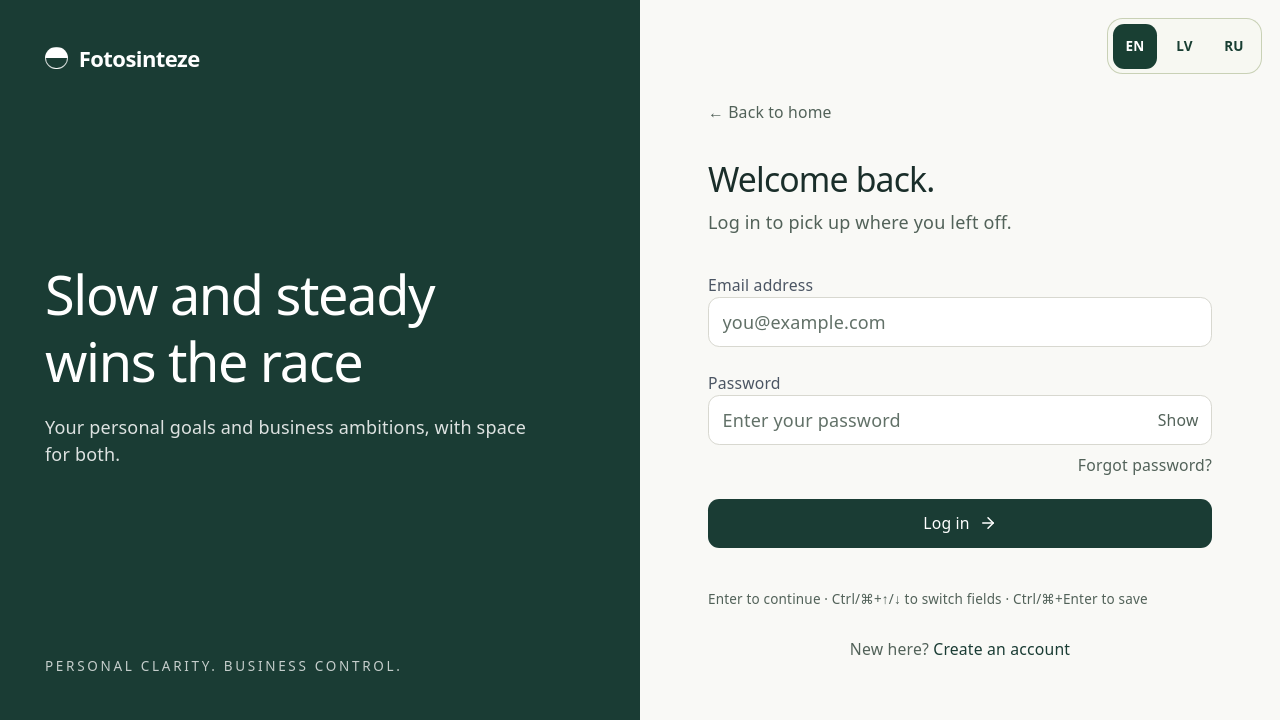
Test case: localized pages › switches visible validation and password controls without losing draft values or input identity
Type "draft@example.com" into the field labelled "Email address".
click(960, 322); type("draft@example.com")  # box [708, 297, 1212, 347]
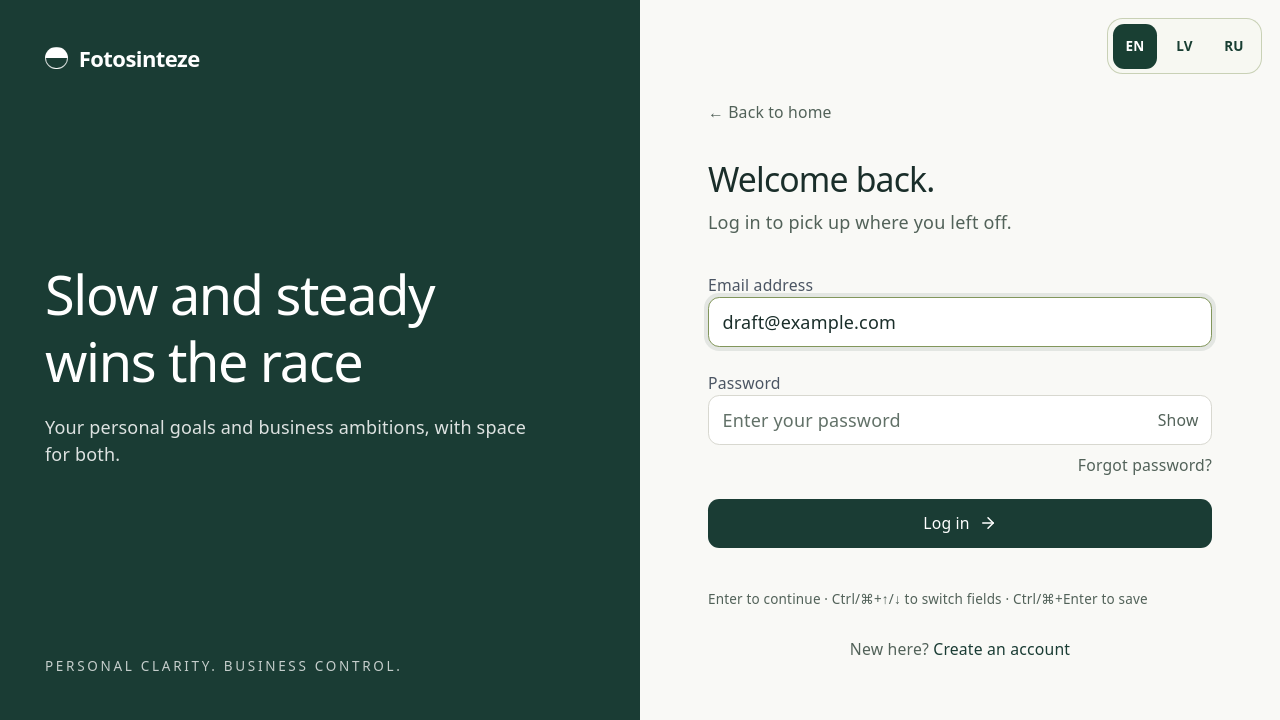
Click the button "Log in".
click(960, 523)  # box [708, 499, 1212, 548]
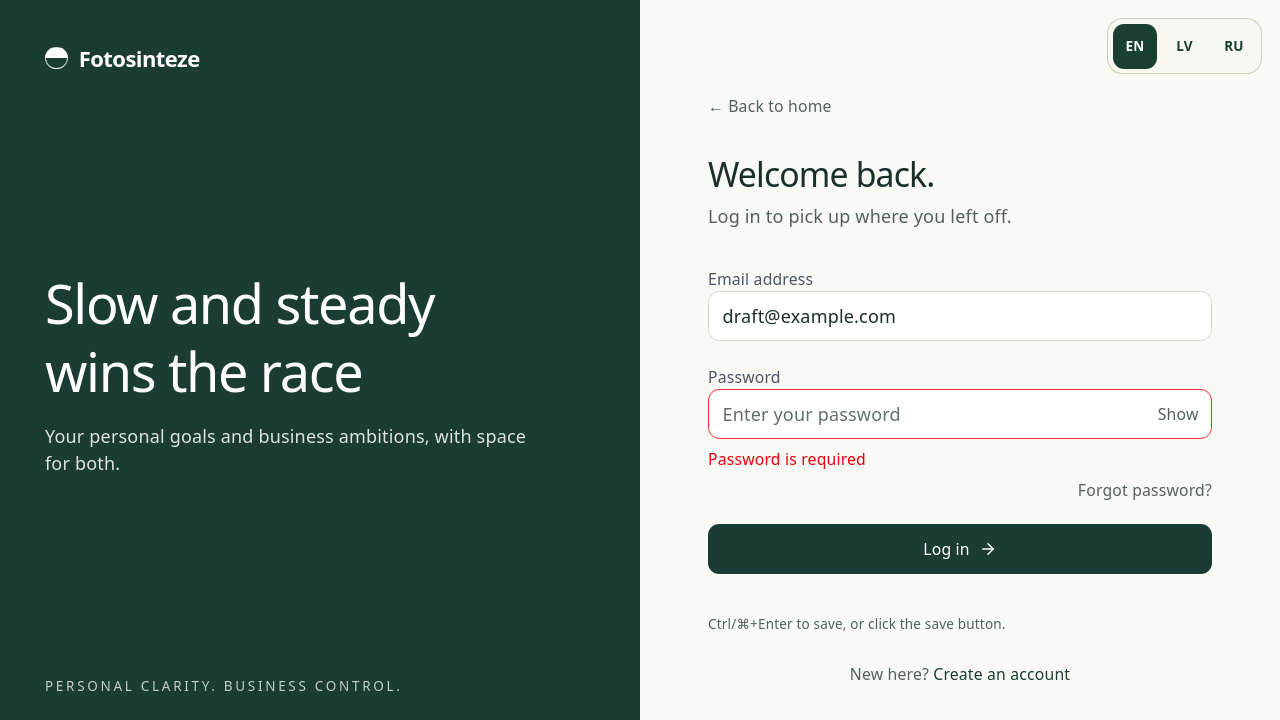
Expected: the text "Password is required" is shown, [708, 448, 866, 470]
Click the button with aria-label "Latviešu".
click(1184, 46)  # box [1162, 24, 1207, 68]
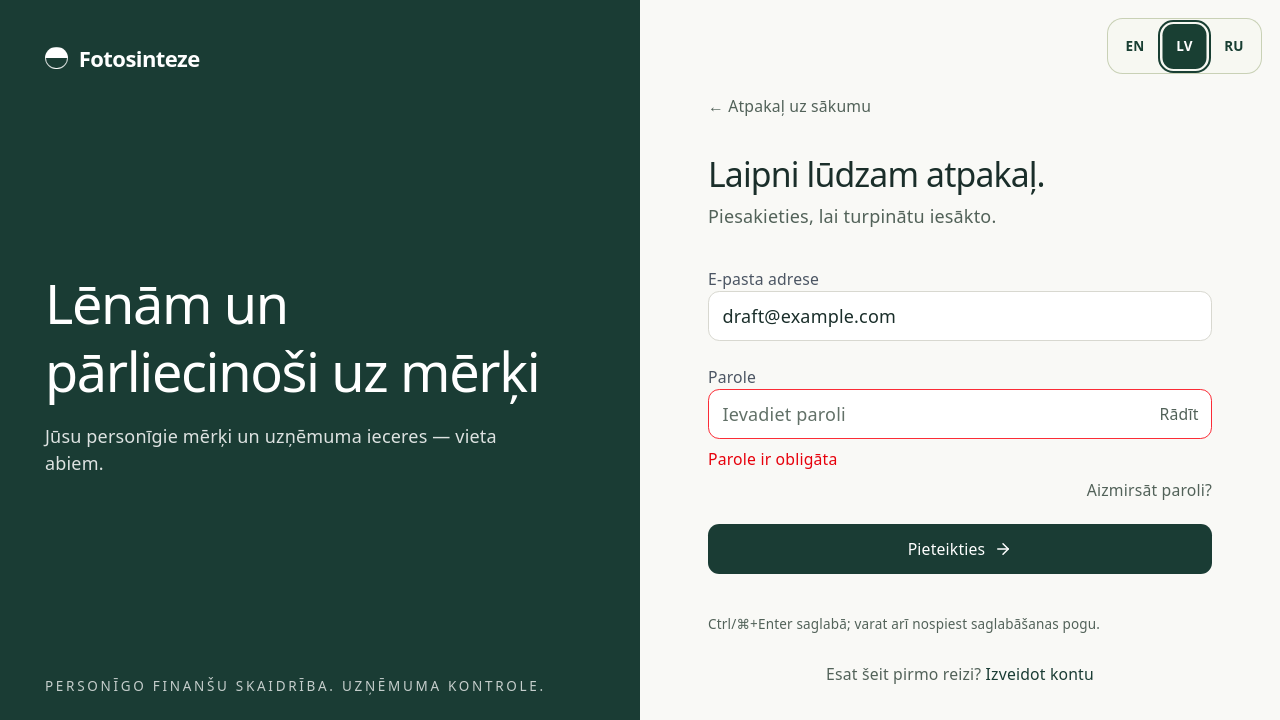
Expected: the text "Parole ir obligāta" is shown, [708, 448, 837, 470]
Click the button with aria-label "Русский".
click(1234, 46)  # box [1212, 24, 1256, 68]
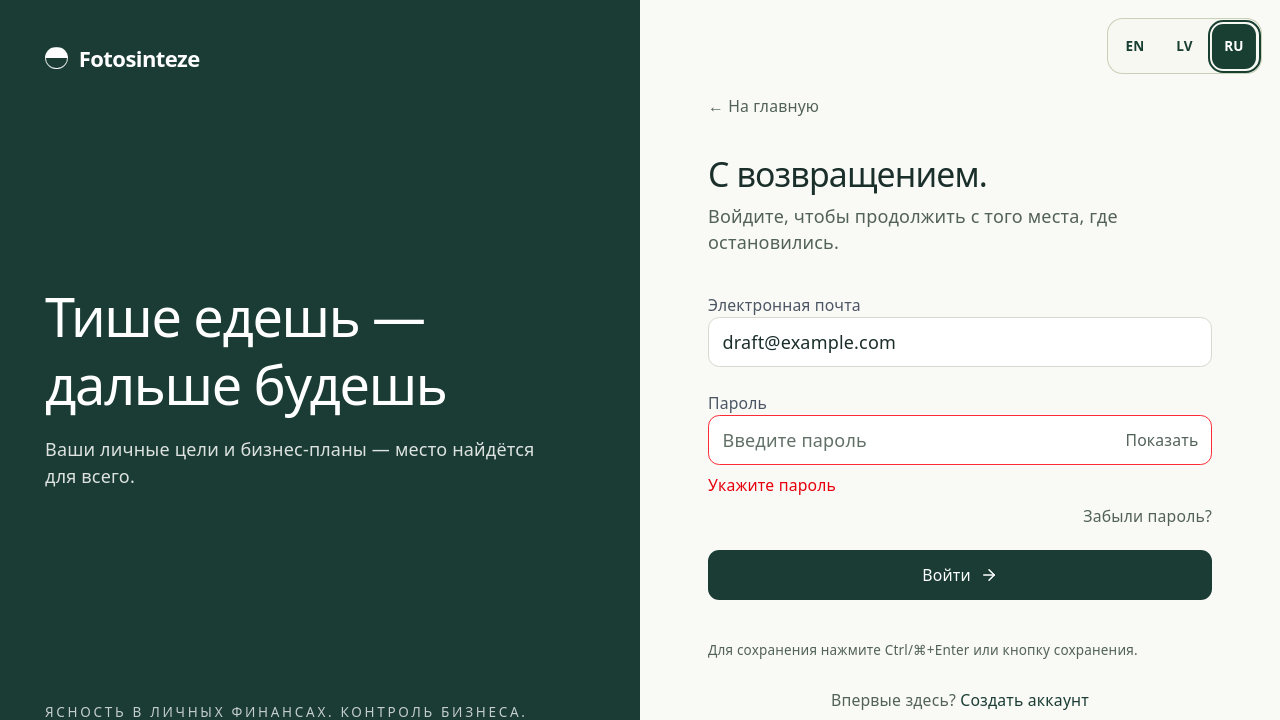
Expected: the text "Укажите пароль" is shown, [708, 474, 836, 496]
Expected: the button with aria-label "Показать пароль" is shown, [1125, 429, 1198, 451]
